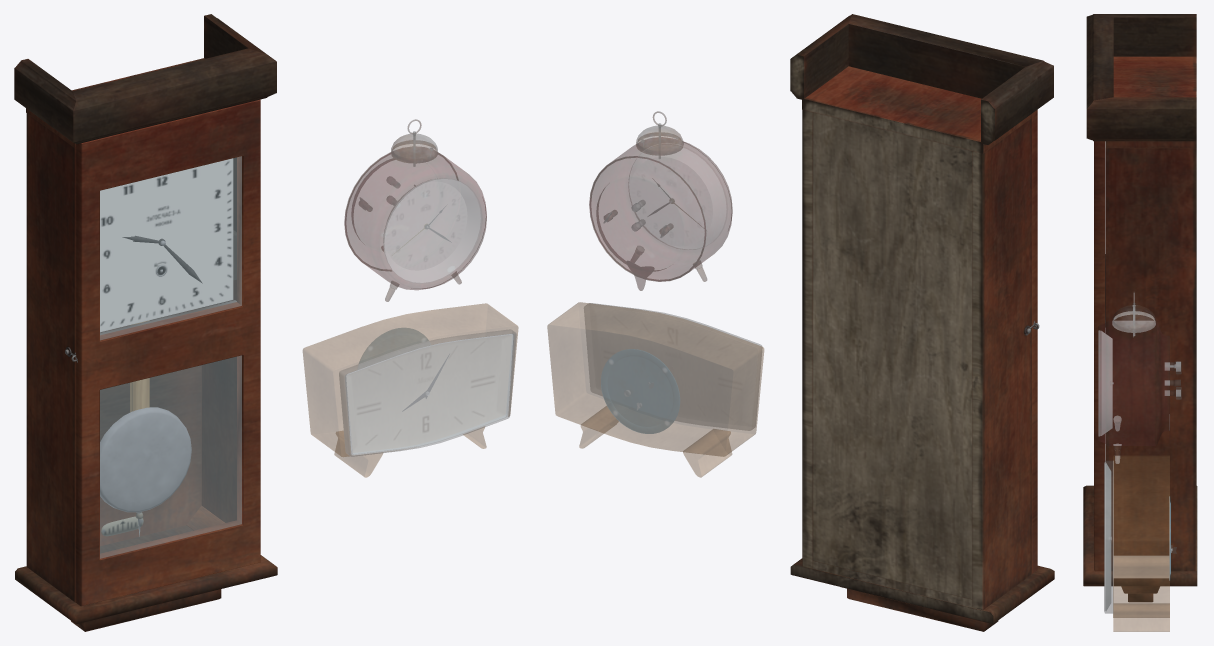
Rendered from obj_watch_ussr_set_atom_rpg_459dc1.glb.
3 views of the same model, side by side, from view 1: azimuth 30°, elevation 25°; view 2: azimuth 150°, elevation 25°; view 3: azimuth 270°, elevation 25° (orthographic). The views are drawn at different scales.
Parts seen in each view (by area): view 1: obj_watch_ussr_set_atom_rpg_459dc1; view 2: obj_watch_ussr_set_atom_rpg_459dc1; view 3: obj_watch_ussr_set_atom_rpg_459dc1.
Boxes of the visible parts, x1,y1,x2,y2 form: obj_watch_ussr_set_atom_rpg_459dc1: [14, 14, 518, 631]; obj_watch_ussr_set_atom_rpg_459dc1: [547, 14, 1054, 631]; obj_watch_ussr_set_atom_rpg_459dc1: [1083, 14, 1197, 631].
Bounding box in the file's own units: 0.2613 × 0.3 × 0.0614.
2 materials, 2 textured.
